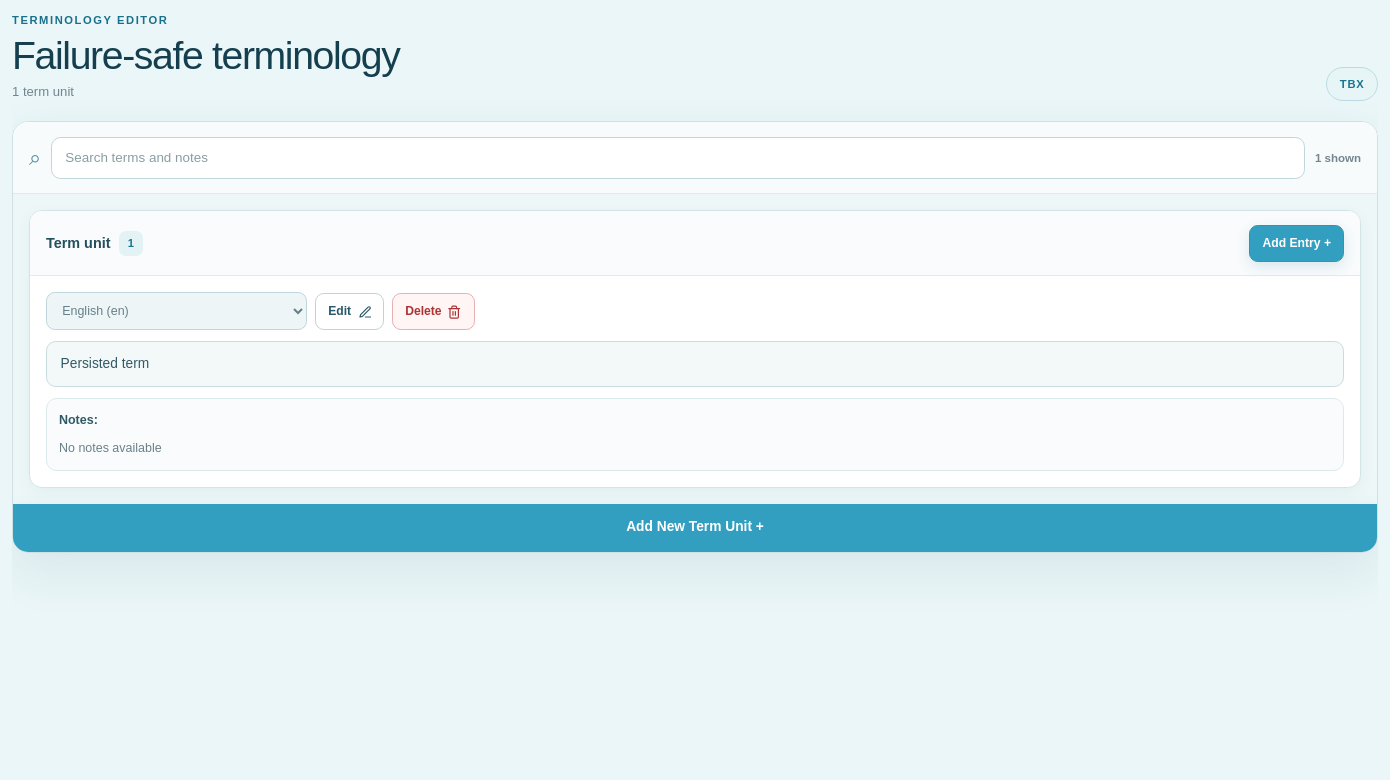
Test: real CAT application route › rolls back a failed TB edit and keeps the editor open
Click the button "Edit" at x=350, y=311, box [315,293,384,330]
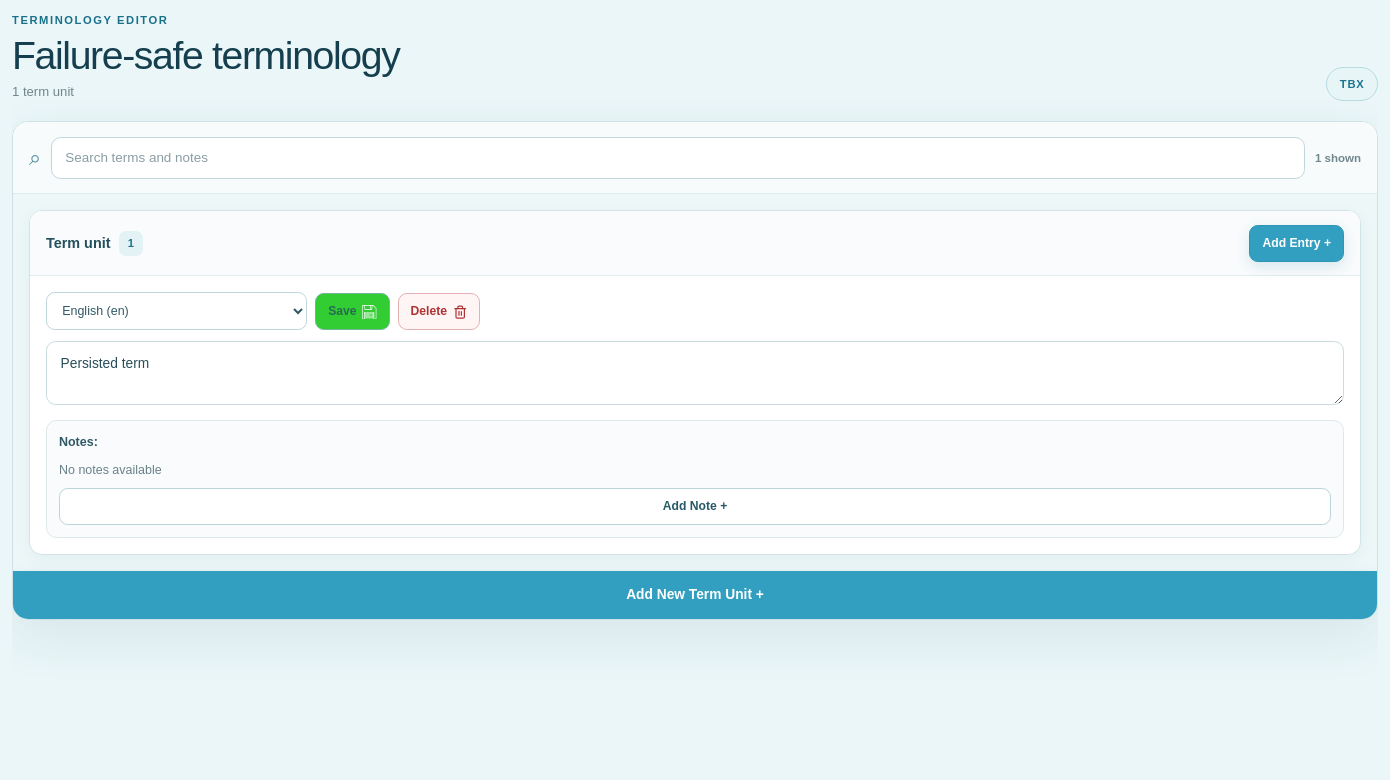
Replace the text in the text box with "Lost term" at x=695, y=373, box [46,341,1344,405]
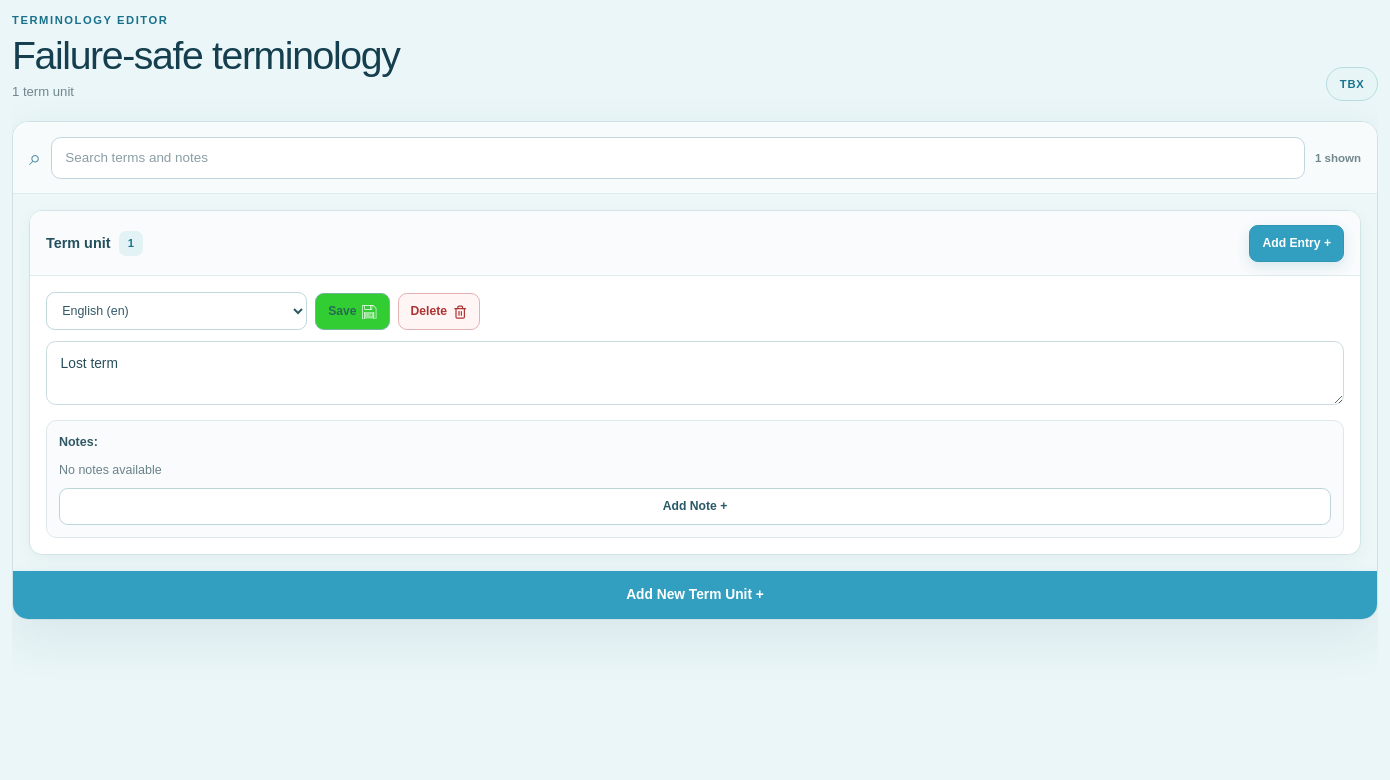
Click the button "Save" at x=352, y=311, box [315,293,390,330]
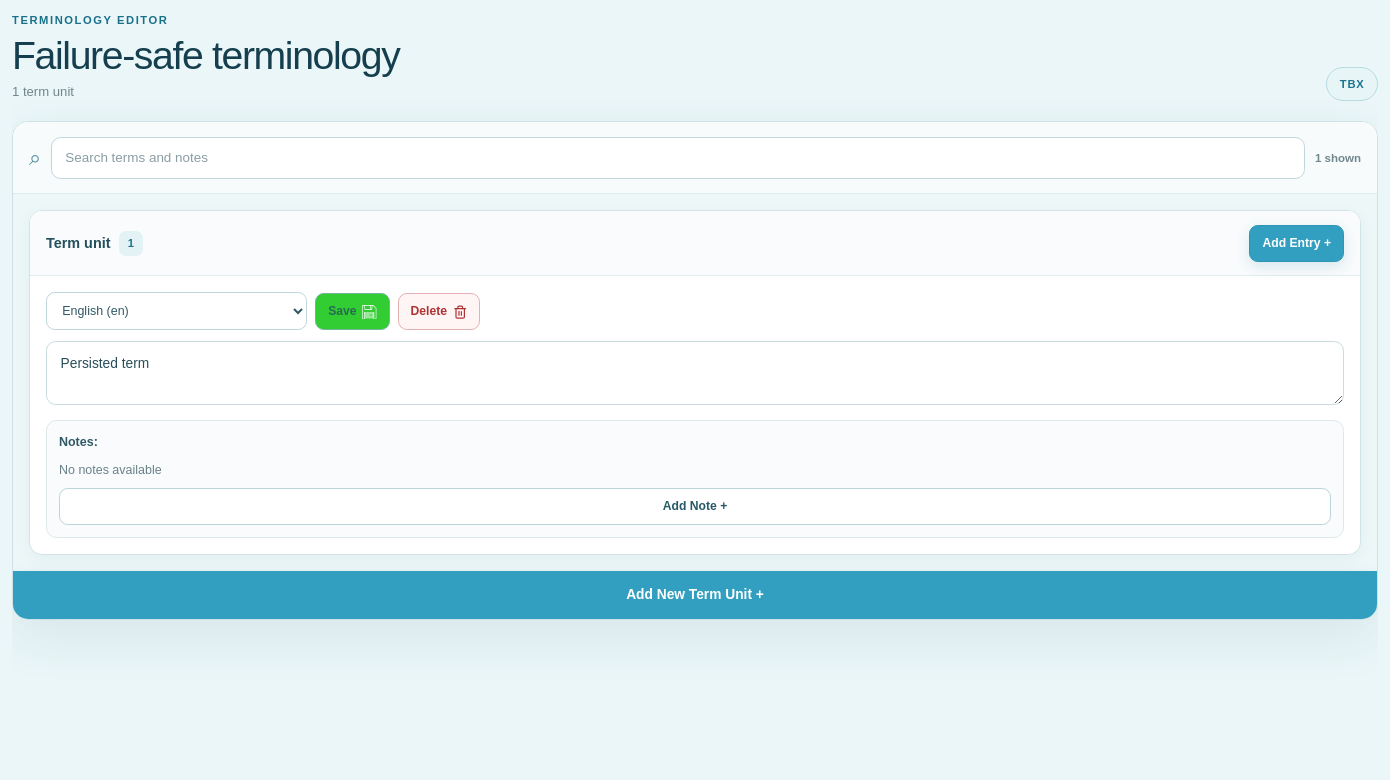
Check: the text box holds "Persisted term", box [46,341,1344,405]
